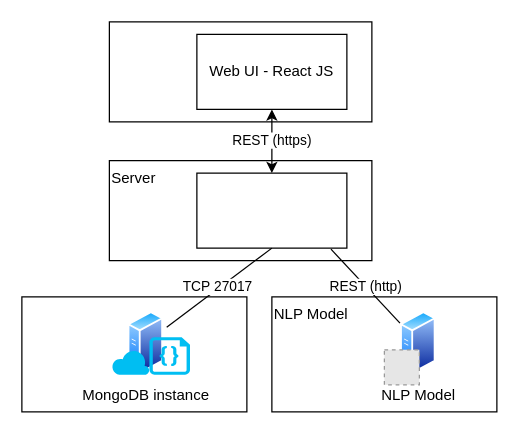
Some shapes in this 519 by 434 pixel diagram are drawn without their labels. Grey dashed boxes stand in for pictures. Here are the shapes that lost their labels. From the top down, the box of each, then its label:
(108, 21, 372, 122): Client
(196, 172, 347, 248): Node Webserver - API
(21, 296, 247, 412): Data
